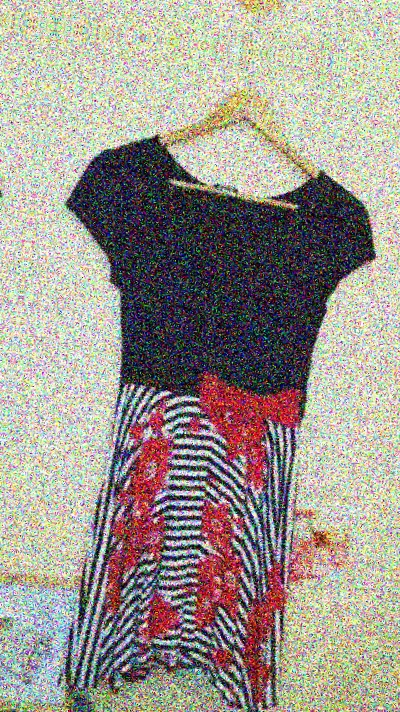Dress: (0, 95, 400, 712), (0, 48, 34, 695), (76, 0, 400, 5)
